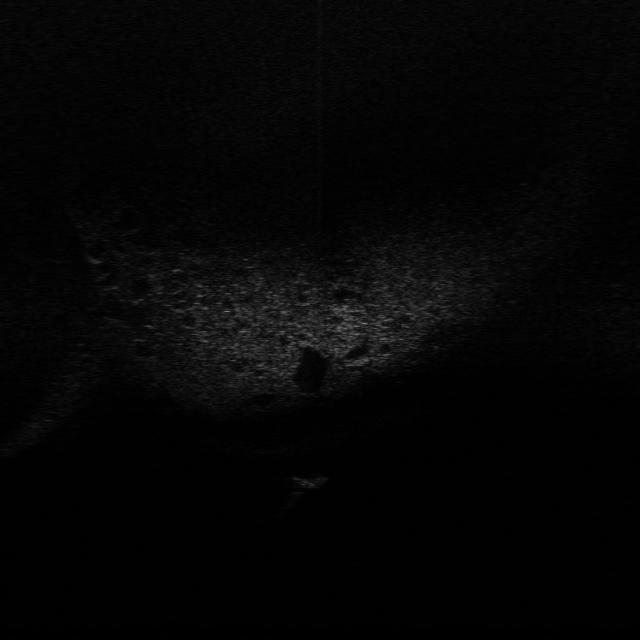cube: (288, 469, 333, 489)
